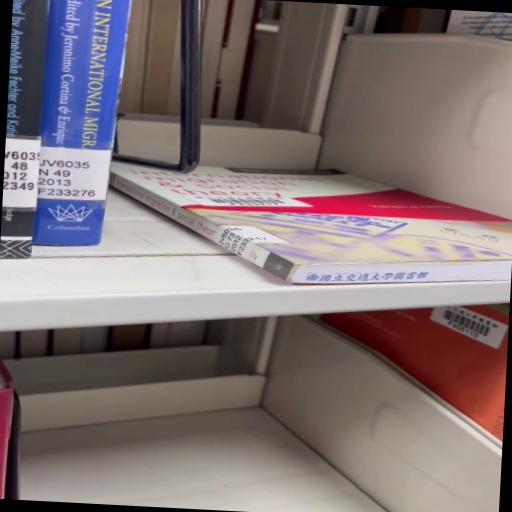flat: (111, 157, 512, 285)
